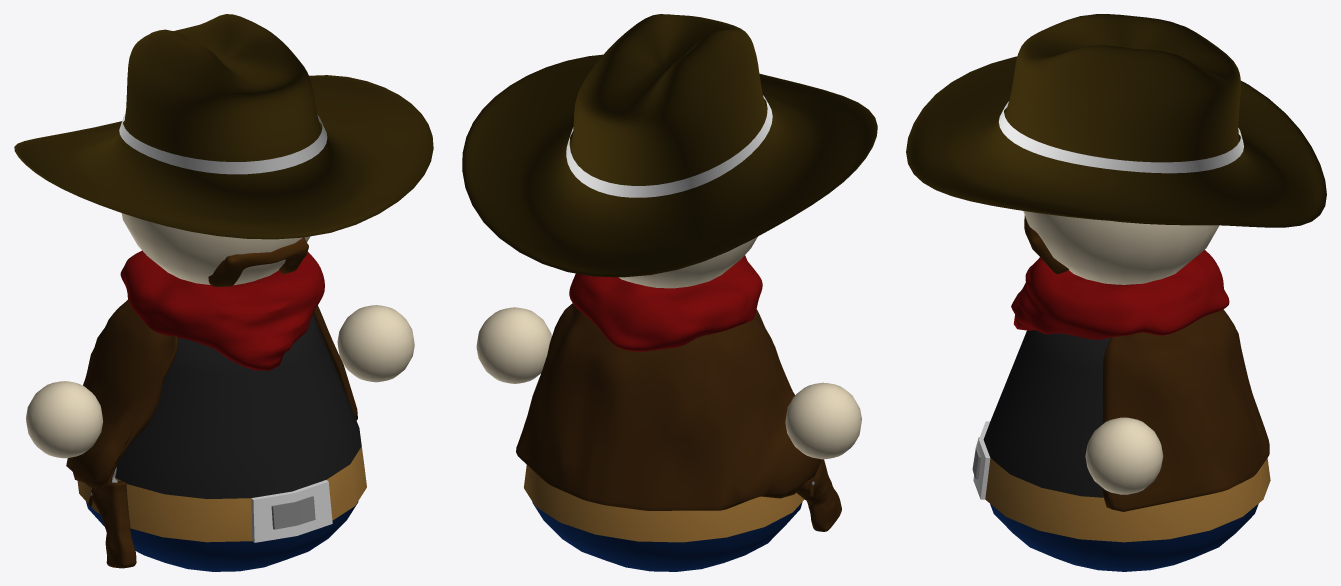
File: Cowboy.fbx
The picture shows the model from 3 angles, left to right: view 1: azimuth 30°, elevation 25°; view 2: azimuth 150°, elevation 25°; view 3: azimuth 270°, elevation 25°; orthographic projection.
Visible parts, largest first — view 1: Hat, Body, NeckScarf, Jacket, Head, Left_Hand, Right_Hand, Holster; view 2: Hat, Jacket, Body, NeckScarf, Right_Hand, Left_Hand, Head, Holster; view 3: Hat, Body, Jacket, NeckScarf, Head, Left_Hand.
Part boxes in pixels (x1=…): Hat: x1=14, y1=14, x2=433, y2=239; Body: x1=77, y1=314, x2=366, y2=571; NeckScarf: x1=120, y1=250, x2=324, y2=370; Jacket: x1=66, y1=299, x2=357, y2=488; Head: x1=121, y1=213, x2=310, y2=286; Left_Hand: x1=337, y1=305, x2=414, y2=382; Right_Hand: x1=26, y1=381, x2=103, y2=458; Holster: x1=88, y1=467, x2=136, y2=568; Hat: x1=462, y1=14, x2=877, y2=277; Jacket: x1=516, y1=303, x2=821, y2=510; Body: x1=524, y1=465, x2=804, y2=571; NeckScarf: x1=569, y1=255, x2=762, y2=351; Right_Hand: x1=785, y1=382, x2=861, y2=459; Left_Hand: x1=476, y1=307, x2=551, y2=383; Head: x1=619, y1=236, x2=757, y2=288; Holster: x1=796, y1=459, x2=841, y2=531; Hat: x1=906, y1=14, x2=1326, y2=227; Body: x1=972, y1=330, x2=1270, y2=571; Jacket: x1=1102, y1=309, x2=1269, y2=511; NeckScarf: x1=1011, y1=250, x2=1229, y2=339; Head: x1=1023, y1=211, x2=1219, y2=284; Left_Hand: x1=1085, y1=417, x2=1163, y2=494.
Bounding box in the file's own units: 17.99 × 23.59 × 17.28.
